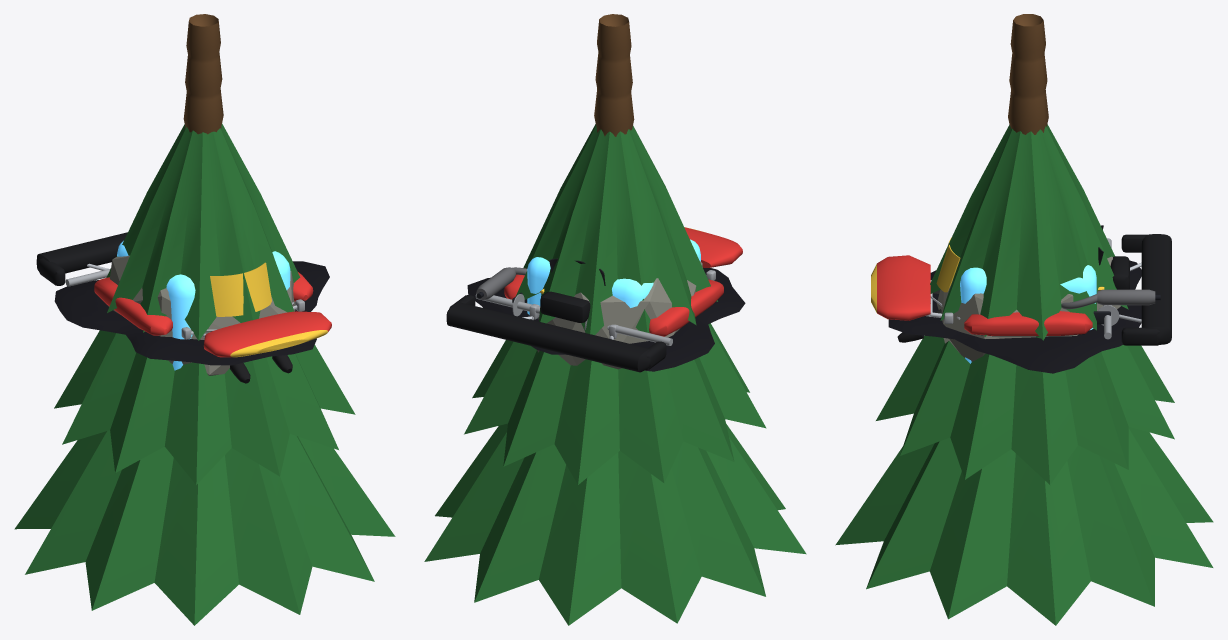
Rendered from kartlands.glb.
3 renders of one model, left to right at view 1: azimuth 30°, elevation 25°; view 2: azimuth 150°, elevation 25°; view 3: azimuth 270°, elevation 25°, orthographic.
Visible parts, largest first — view 1: tree_leaves, kart_body, oil, palm_trunk, rock, itembox, driver_body; view 2: tree_leaves, kart_body, palm_trunk, oil, rock, itembox; view 3: tree_leaves, kart_body, oil, palm_trunk, rock, itembox.
Part boxes in pixels (<box>): tree_leaves: <box>14,123,395,625</box>; kart_body: <box>36,232,331,357</box>; oil: <box>54,261,329,365</box>; palm_trunk: <box>183,14,223,134</box>; rock: <box>107,255,295,375</box>; itembox: <box>117,240,290,370</box>; driver_body: <box>230,355,292,383</box>; tree_leaves: <box>424,124,806,625</box>; kart_body: <box>446,227,742,372</box>; palm_trunk: <box>594,14,634,136</box>; oil: <box>467,267,745,371</box>; rock: <box>526,261,702,369</box>; itembox: <box>527,239,700,314</box>; tree_leaves: <box>835,124,1213,625</box>; kart_body: <box>871,225,1171,345</box>; oil: <box>888,260,1141,373</box>; palm_trunk: <box>1008,14,1048,134</box>; rock: <box>936,256,1120,361</box>; itembox: <box>960,265,1096,363</box>.
Size of the model in its own units: 4.75 by 7.45 by 4.7.
